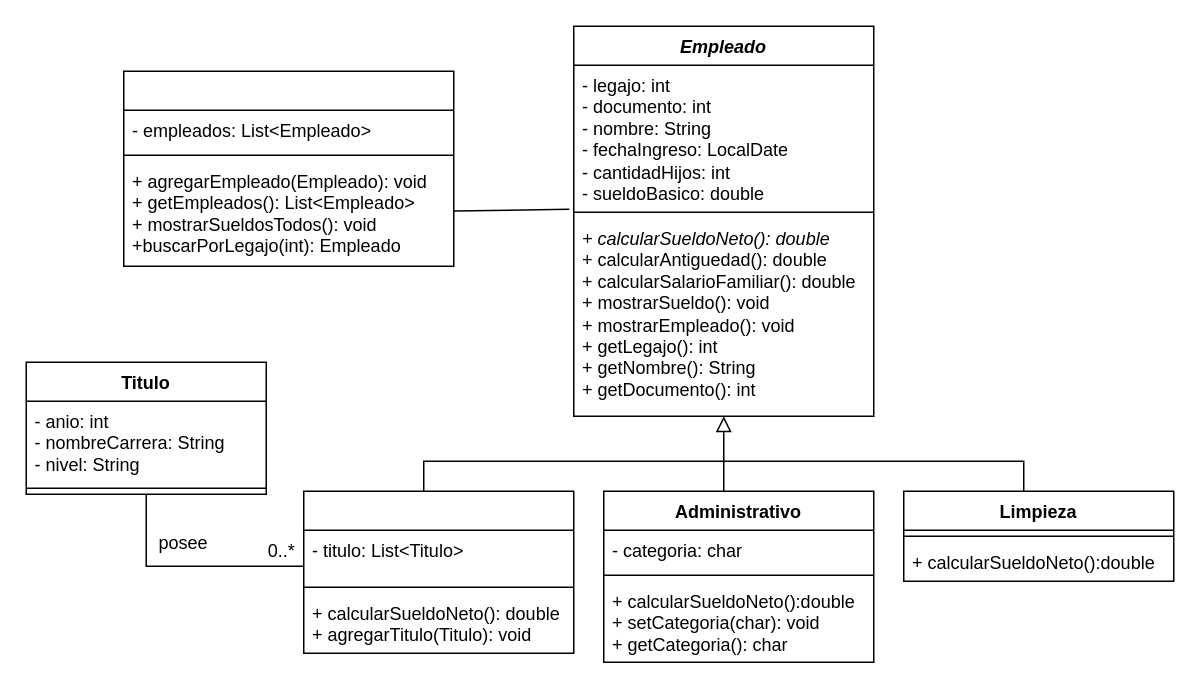
Image size: 1200x693. Some labels were removed from this diagram. Here are the shapes that lost their labels. From the top down, the box of each, then its label:
(122, 70, 454, 266): ManagerEmpleado
(302, 490, 574, 653): Profesional
